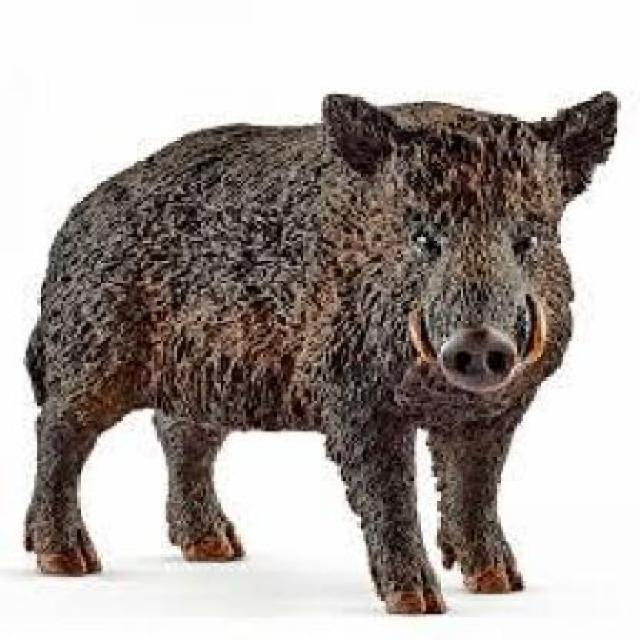wildboar: (17, 88, 620, 615)
